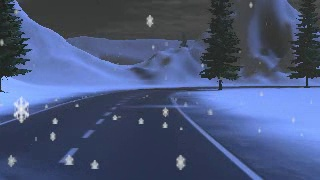Lane: (0, 86, 318, 179)
